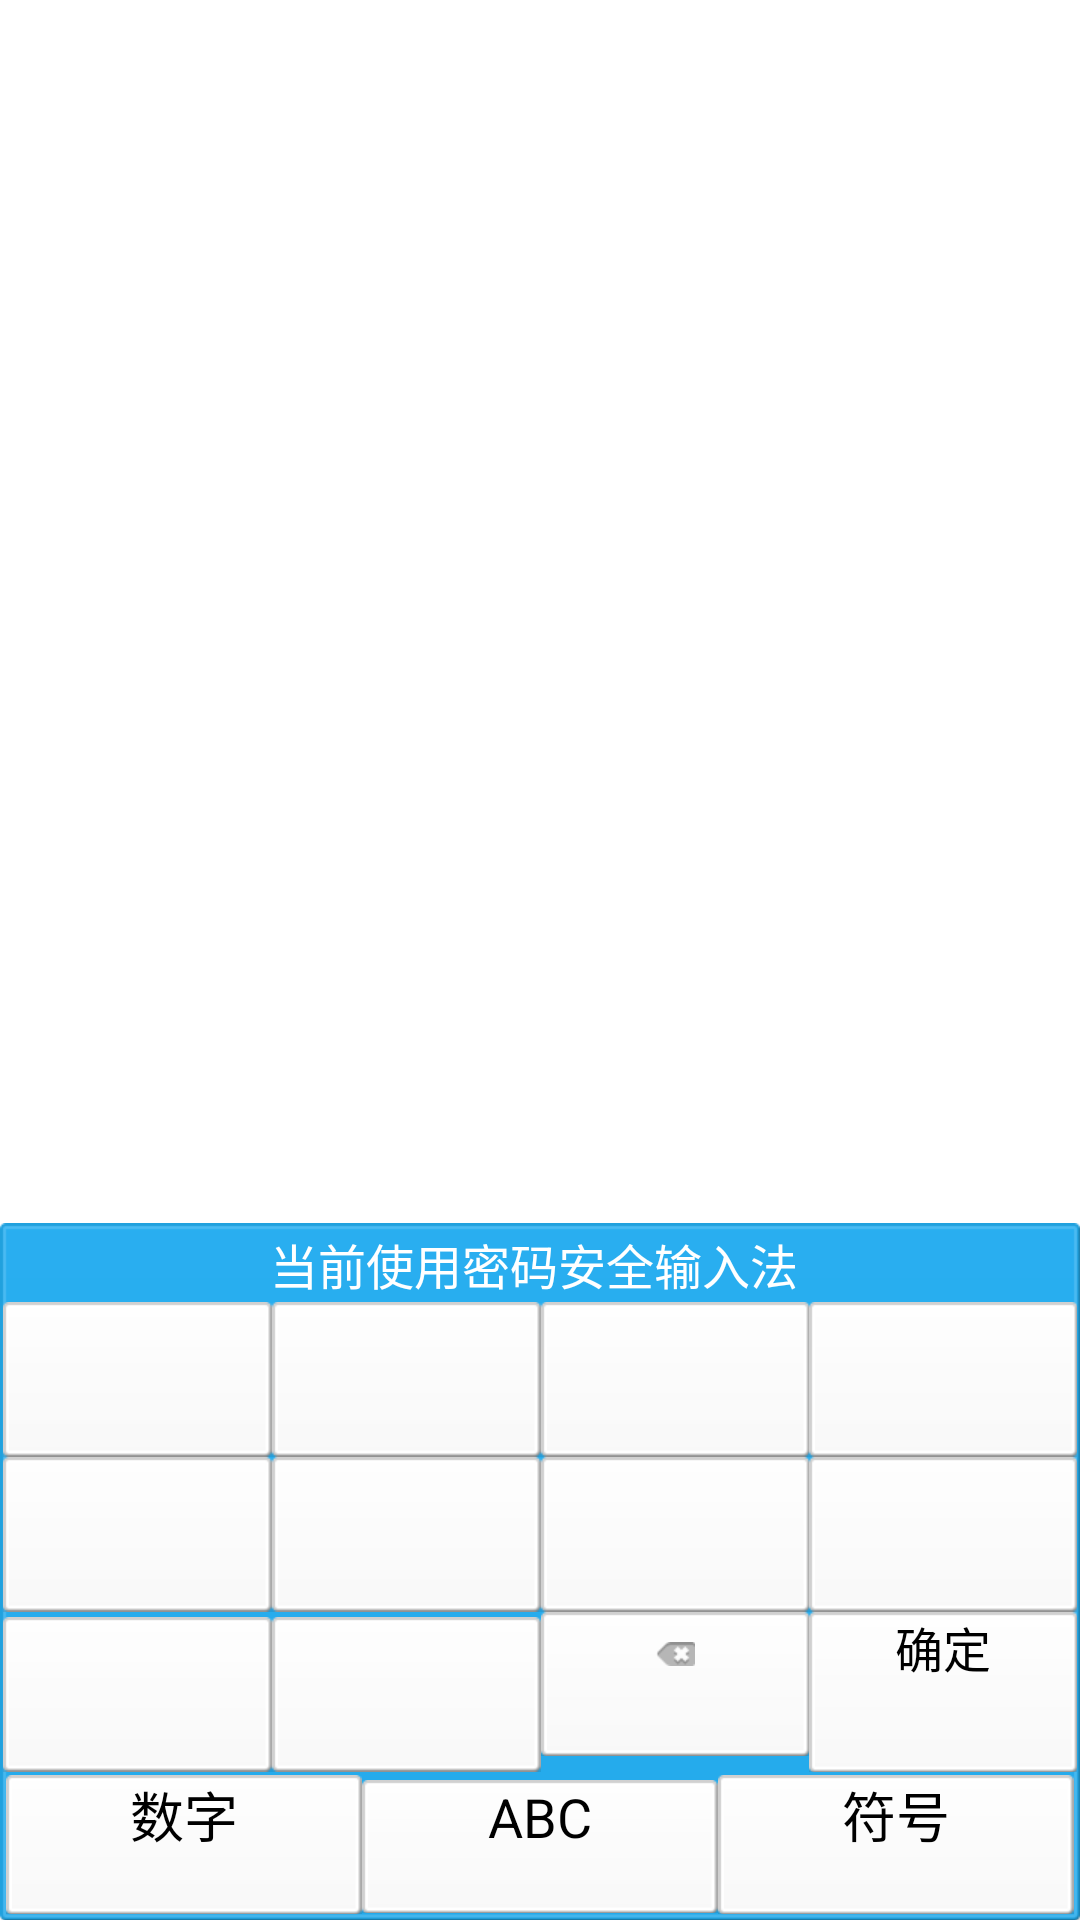

Icons on this 1080px×1920px Android screen, each with the point to tap as [x,y]:
pass remove: [675,1684]
